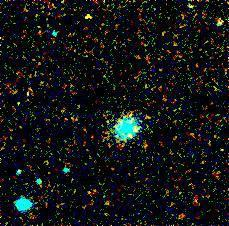star: (73, 2, 103, 32)
